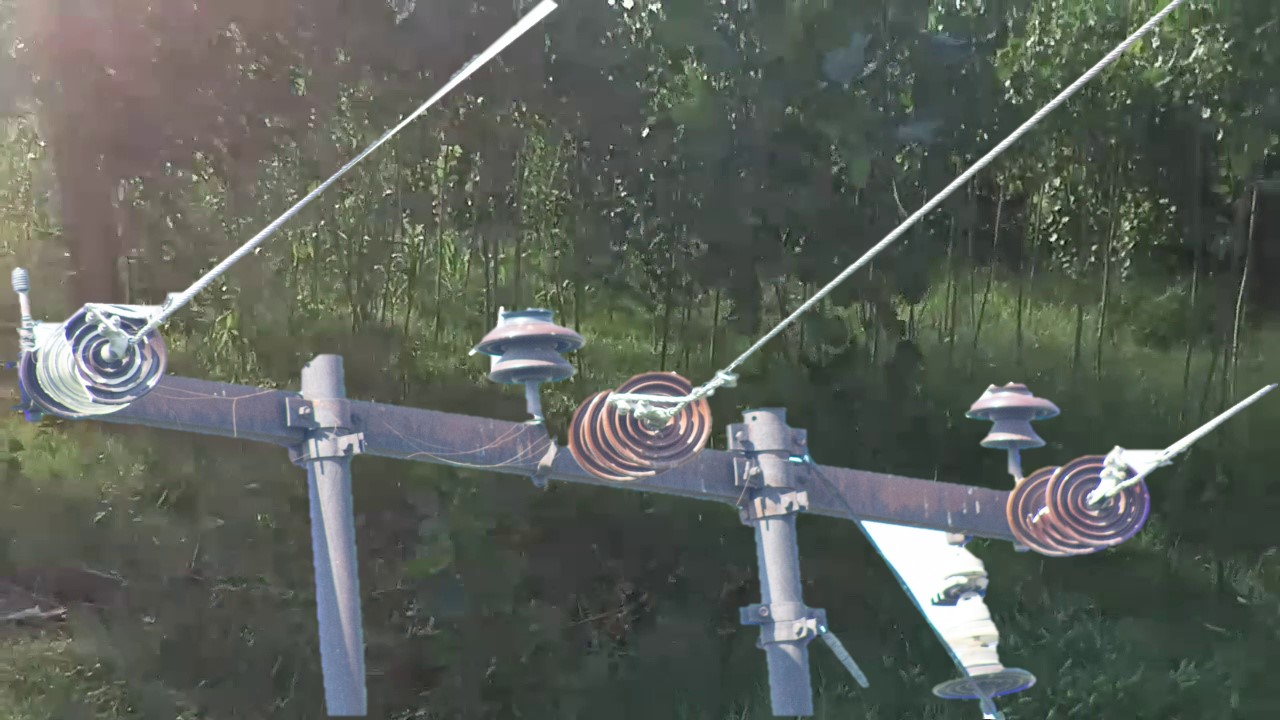defect_disc: (62, 298, 171, 408)
insulator_disc: (600, 365, 716, 476), (1045, 446, 1156, 552)
